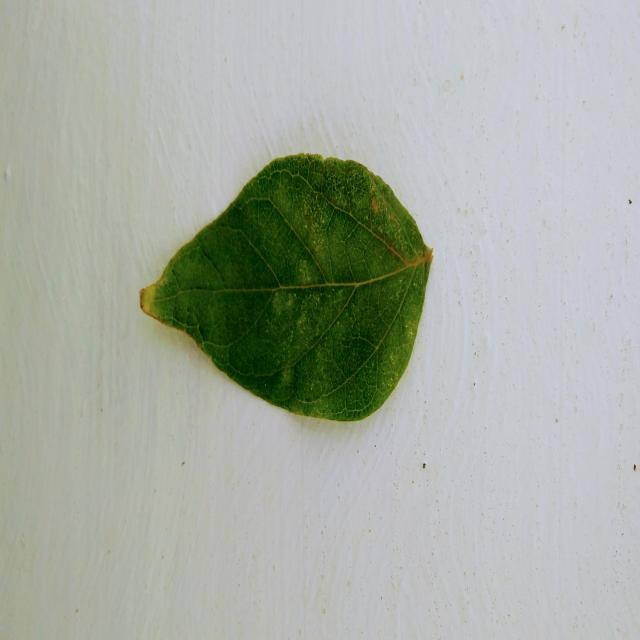Parijatha: (140, 153, 432, 420)
